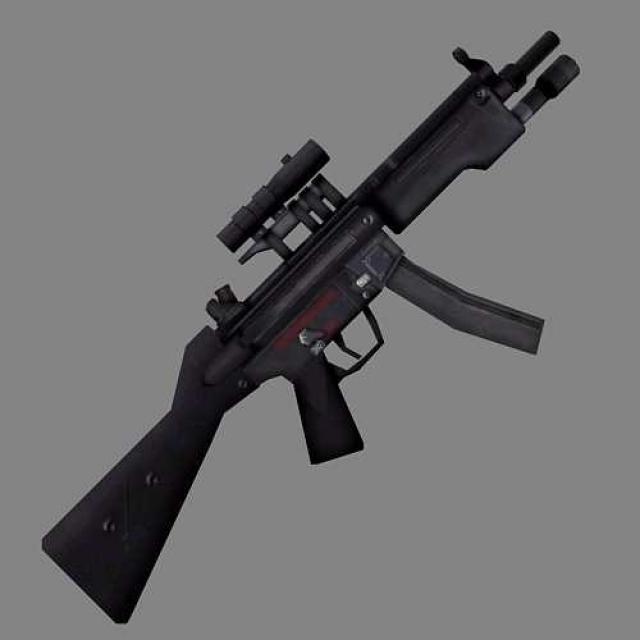RifleTel: (28, 21, 586, 635)
